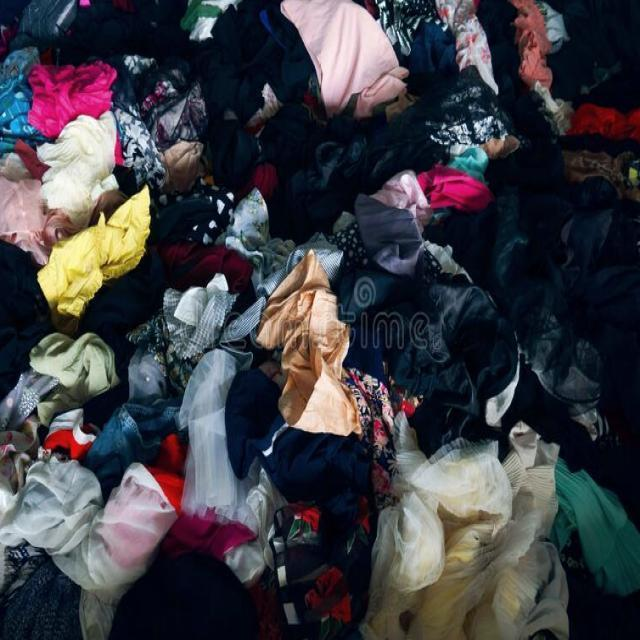clothes: (46, 94, 606, 522)
